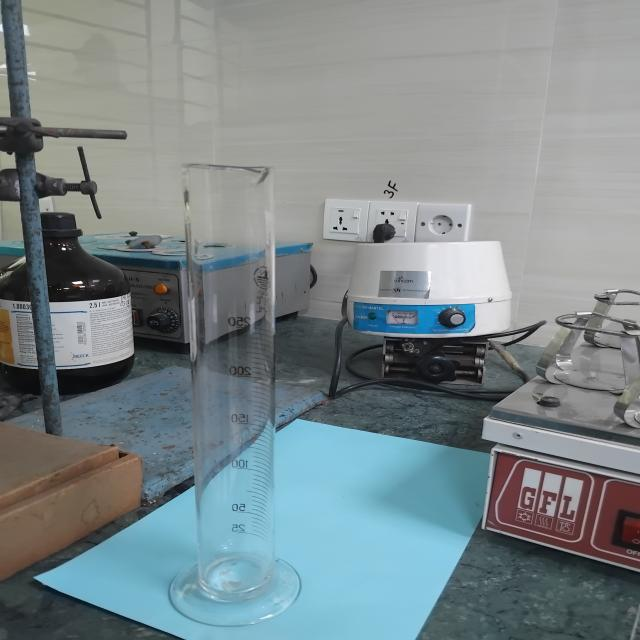Measuring_Cylinder: (117, 136, 344, 640)
